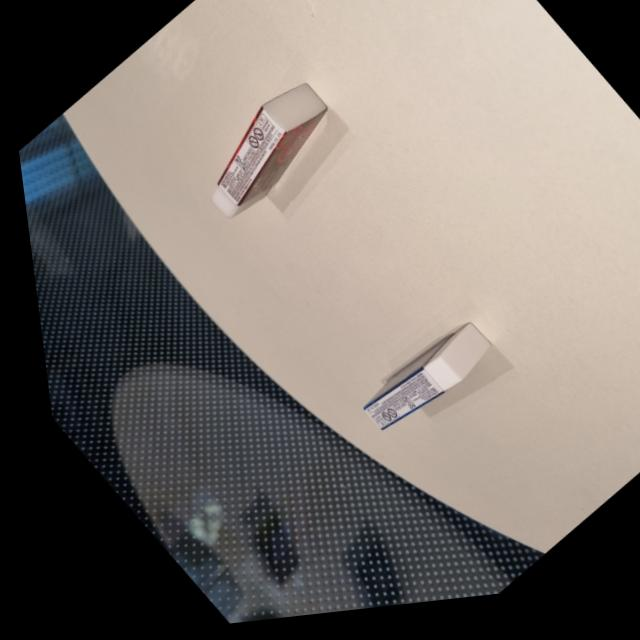blue: (328, 317, 499, 460)
red: (157, 57, 365, 245)
